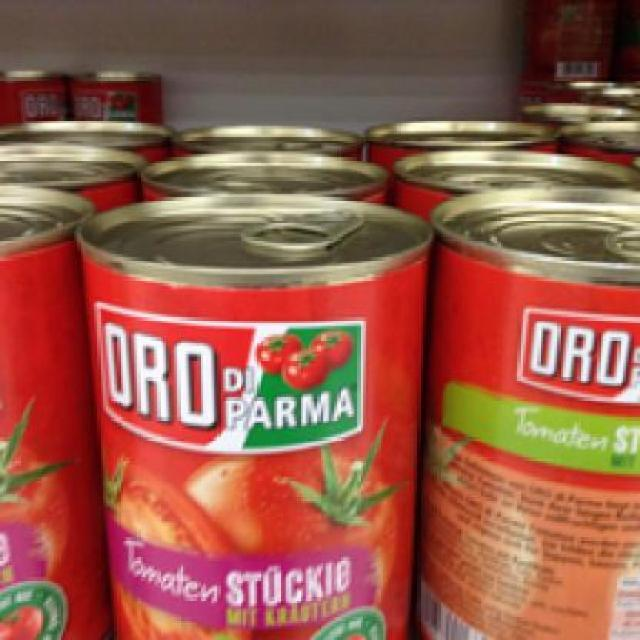Tomato Sauce: (66, 188, 432, 634), (417, 186, 637, 634)
